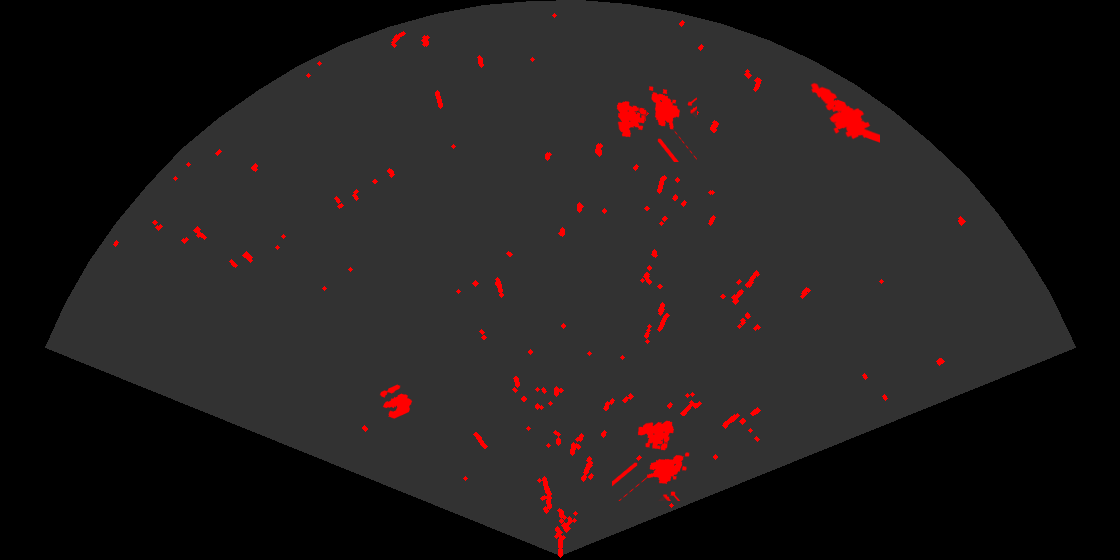ball: (378, 383, 414, 420)
cage: (612, 419, 691, 501), (615, 85, 697, 162)
frogman: (809, 81, 880, 144)
